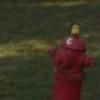Hydrant: (40, 23, 96, 100)
